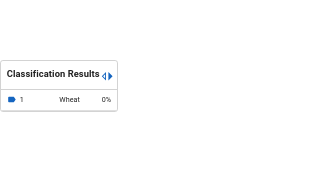
Scenario: ResultsTable › score formatting in top results › formats a score of exactly 0.0001 normally (not as < 0.01%)
What coordinates should you click on to do the following:
click the row
I would click on:
 (59, 100)
Its box is top-left (1, 90), bottom-right (117, 110).
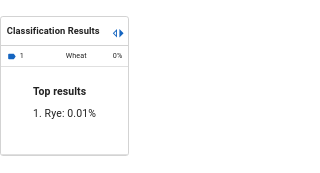
Now the text "1. Rye: 0.01%" is shown, box top-left (33, 105), bottom-right (96, 122)
